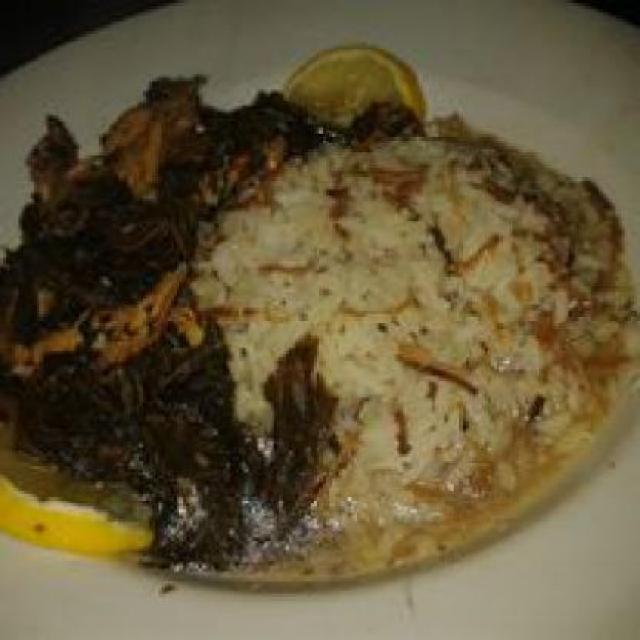fried rice: (205, 118, 603, 519)
molokhia: (3, 80, 323, 574)
